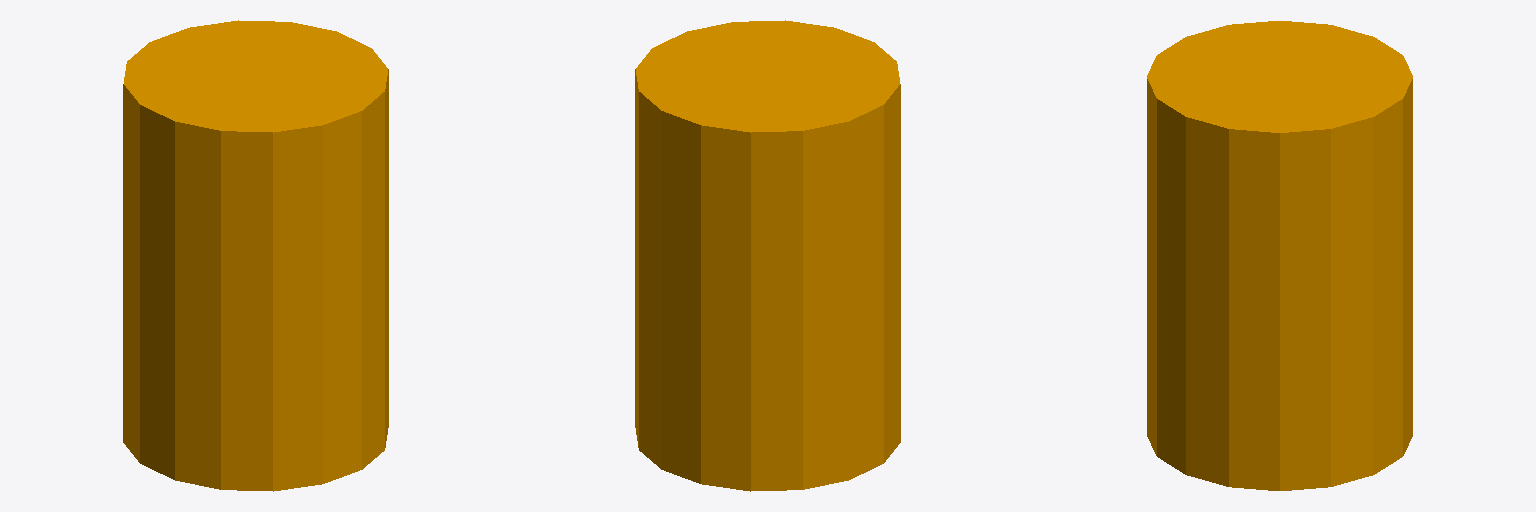
URDF robot description (soup16.off):
<?xml version="1.0"?>
<robot name="soup16.off">
	<link name="soup16.off">
		<inertial>
			<!--origin xyz="0 0 0" rpy="0 0 0" /-->
			<mass value="0.5" />
			<!--inertia ixx="0.000360" ixy="0" ixz="0" iyy="0.0000615" iyz="0" izz="0.00036" /-->
		</inertial>
    		<visual>
	      		<!--origin rpy="0 0 0" xyz="0 0 0"/-->
      			<geometry>
        			<mesh filename="soup16.off.obj"/>
      			</geometry>
         	</visual>
    		<collision>
      			<!--origin rpy="0 0 0" xyz="0 0 0"/-->
      			<geometry>
        			<mesh filename="soup16.off.obj"/>
      			</geometry>
    		</collision>
	</link>
</robot>

--- Facts derived from the render (not from the file) ---
Views: 3 orthographic renders of the robot side by side, from view 1: azimuth 30°, elevation 25°; view 2: azimuth 150°, elevation 25°; view 3: azimuth 270°, elevation 25°.
Robot: soup16.off — 1 links, 0 joints (none); root link soup16.off; default pose: every joint at zero.
Links seen in each view (by area): view 1: soup16.off; view 2: soup16.off; view 3: soup16.off.
Boxes of the visible links, left/top/right/bottom form: soup16.off: left=123, top=20, right=388, bottom=491; soup16.off: left=635, top=20, right=900, bottom=491; soup16.off: left=1147, top=21, right=1412, bottom=490.
Bounding box of the posed robot: 6.75 × 6.75 × 10 m (x, y, z).
1 mesh visuals loaded from 1 distinct referenced files (1 OBJ).